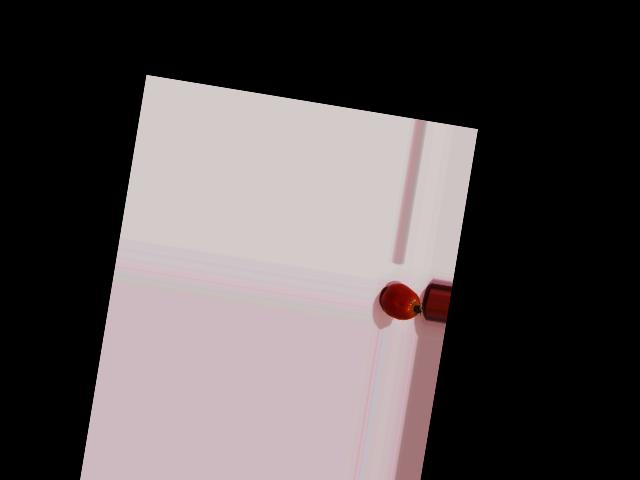tomato: (379, 281, 423, 322)
